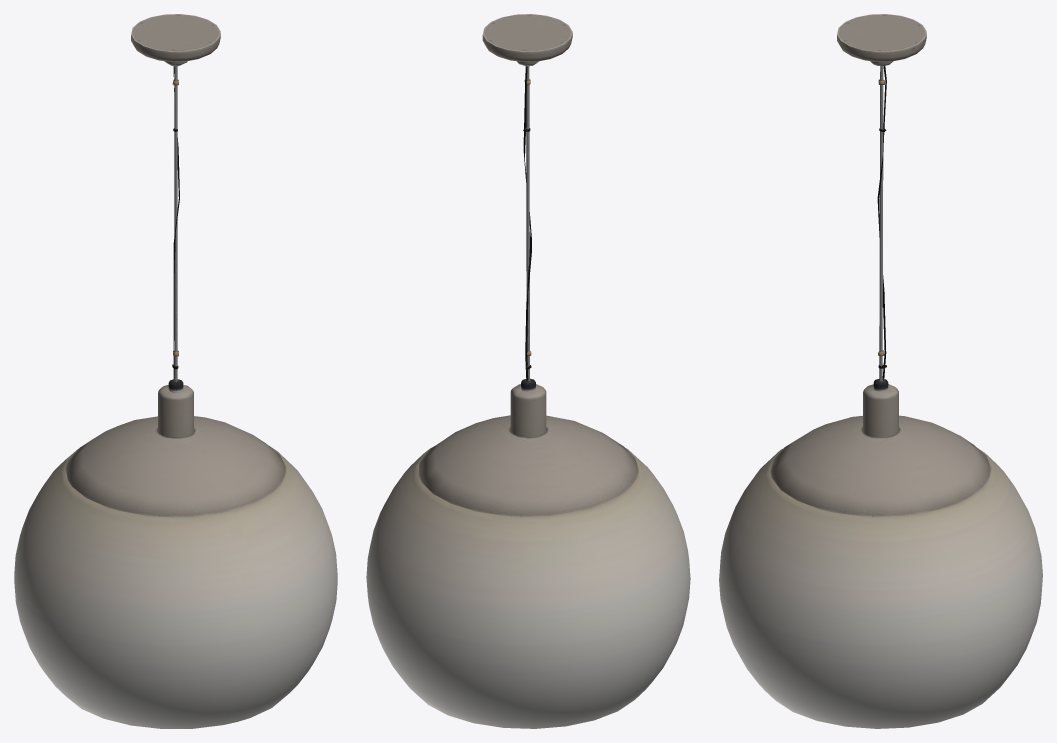
Rendered from ceiling_lamp.glb.
3 renders of one model, left to right at view 1: azimuth 30°, elevation 25°; view 2: azimuth 150°, elevation 25°; view 3: azimuth 270°, elevation 25°, orthographic.
Visible parts, largest first — view 1: modern_ceiling_lamp_01; view 2: modern_ceiling_lamp_01; view 3: modern_ceiling_lamp_01.
Boxes of the visible parts, x1,y1,x2,y2 form: modern_ceiling_lamp_01: (14, 14, 337, 728); modern_ceiling_lamp_01: (366, 14, 690, 728); modern_ceiling_lamp_01: (719, 14, 1042, 728).
Bounding box in the file's own units: 0.4316 × 0.9512 × 0.4317.
Materials: 2 (2 with a texture image).
